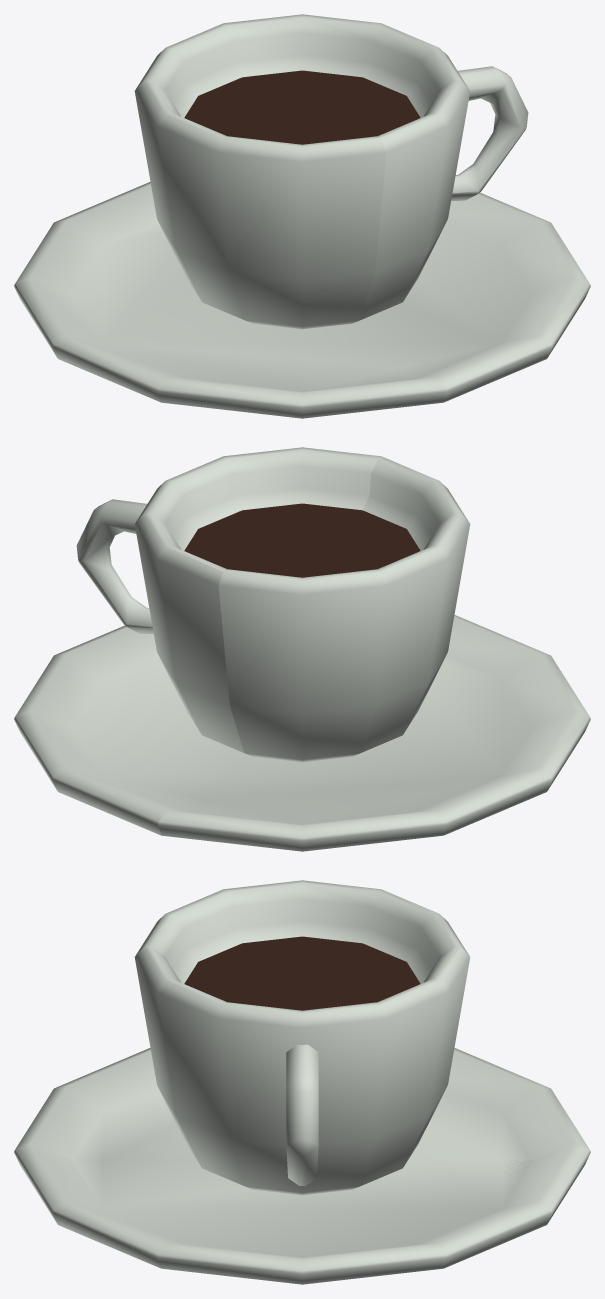
The model's file is coffe.fbx.
The picture shows the model from 3 angles, top to bottom: view 1: azimuth 30°, elevation 25°; view 2: azimuth 150°, elevation 25°; view 3: azimuth 270°, elevation 25°; orthographic projection.
Visible parts, largest first — view 1: coffe, coffe.002, coffe.001; view 2: coffe, coffe.001, coffe.002; view 3: coffe, coffe.001, coffe.002.
Boxes of the visible parts, x1,y1,x2,y2 form: coffe: (14,14,590,402); coffe.002: (30,26,446,418); coffe.001: (381,49,574,378); coffe: (30,447,574,851); coffe.001: (14,450,377,835); coffe.002: (167,481,590,825); coffe: (14,880,589,1284); coffe.001: (30,947,590,1284); coffe.002: (15,883,574,1159).
Bounding box in the file's own units: 99.32 × 44.77 × 99.32.
